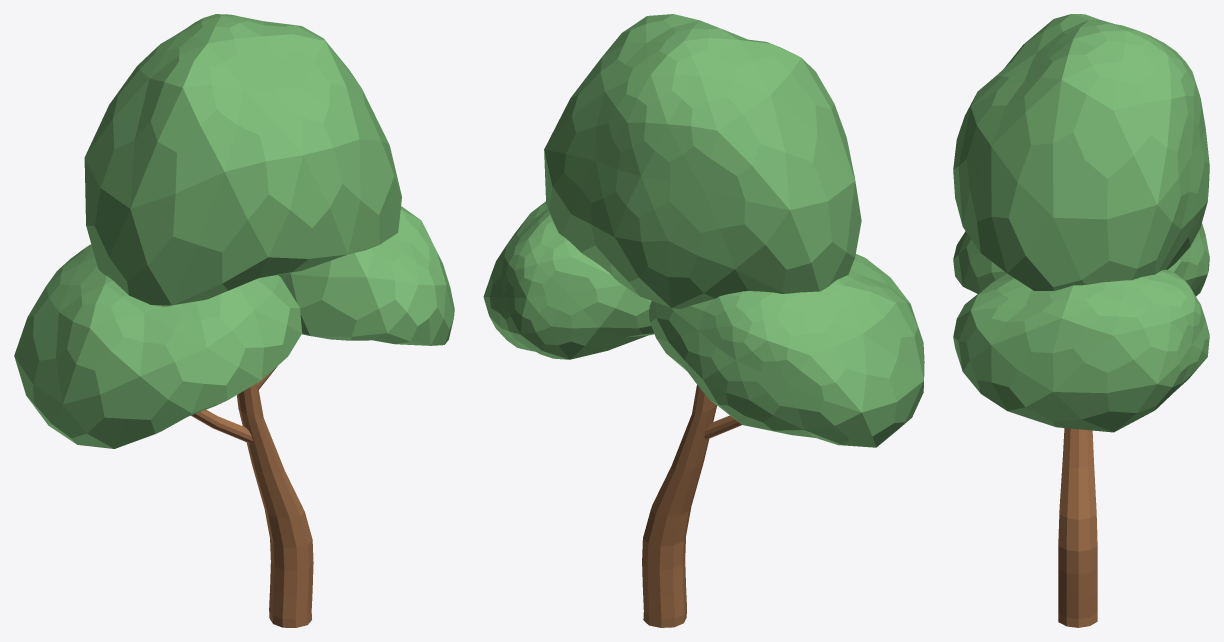
Rendered from Tree 2.glb.
3 views of the same model, side by side, from view 1: azimuth 30°, elevation 25°; view 2: azimuth 150°, elevation 25°; view 3: azimuth 270°, elevation 25° (orthographic). The views are drawn at different scales.
Parts seen in each view (by area): view 1: Tree2; view 2: Tree2; view 3: Tree2.
Boxes of the visible parts, bbox=[...] form: Tree2: bbox=[14, 14, 454, 627]; Tree2: bbox=[483, 14, 924, 627]; Tree2: bbox=[953, 14, 1209, 627].
Size of the model in its own units: 3.73 by 5.57 by 2.26.
